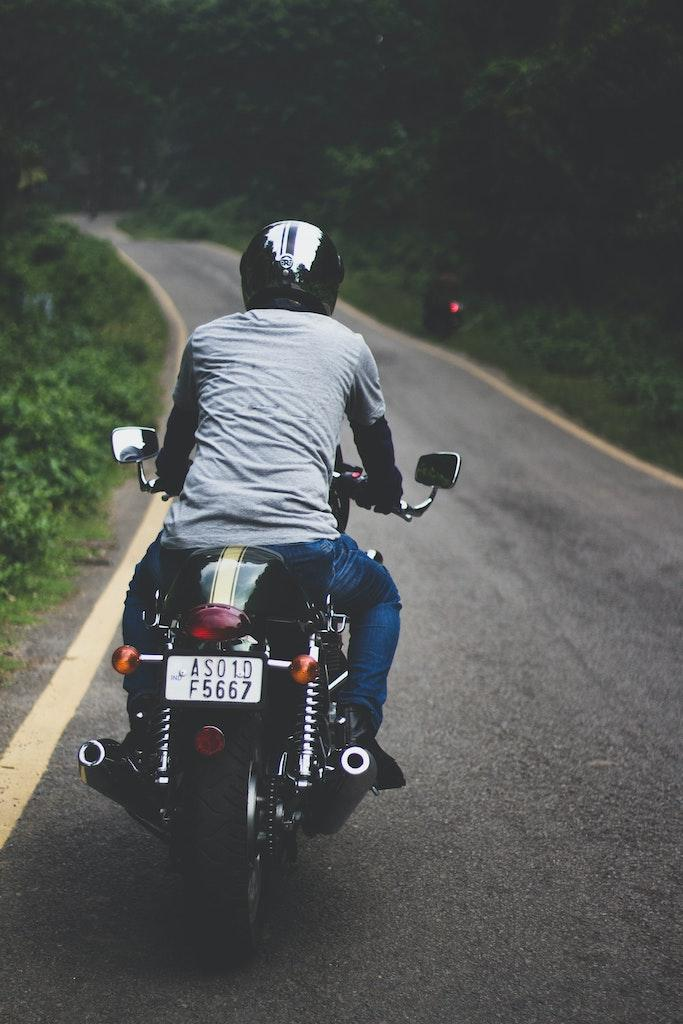helmet: (238, 217, 346, 319)
